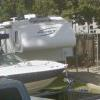Boat: (2, 50, 71, 93)
